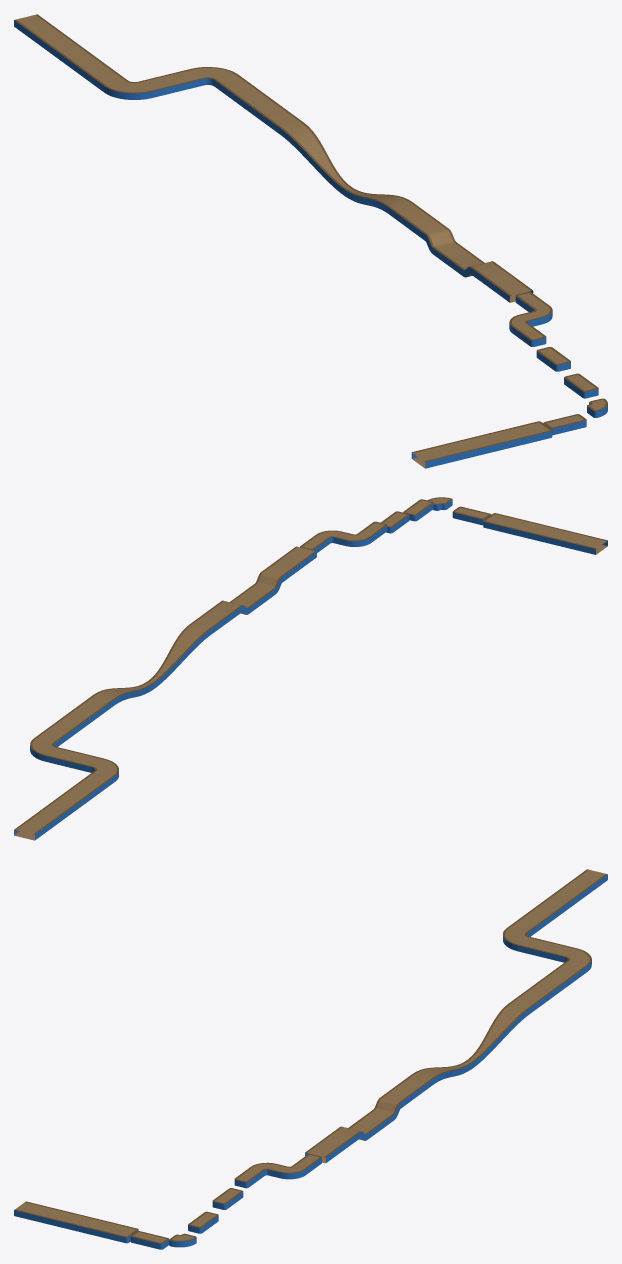
Rendered from ramp_35.FBX.
3 renders of one model, top to bottom at view 1: azimuth 30°, elevation 25°; view 2: azimuth 150°, elevation 25°; view 3: azimuth 330°, elevation 25°, orthographic. The views are drawn at different scales.
Parts seen in each view (by area): view 1: ramp_35; view 2: ramp_35; view 3: ramp_35.
Part boxes in pixels (x1=…): ramp_35: x1=14, y1=14, x2=607, y2=468; ramp_35: x1=14, y1=497, x2=607, y2=840; ramp_35: x1=14, y1=869, x2=607, y2=1249.
Size of the model in its own units: 4403 by 600 by 17534.
